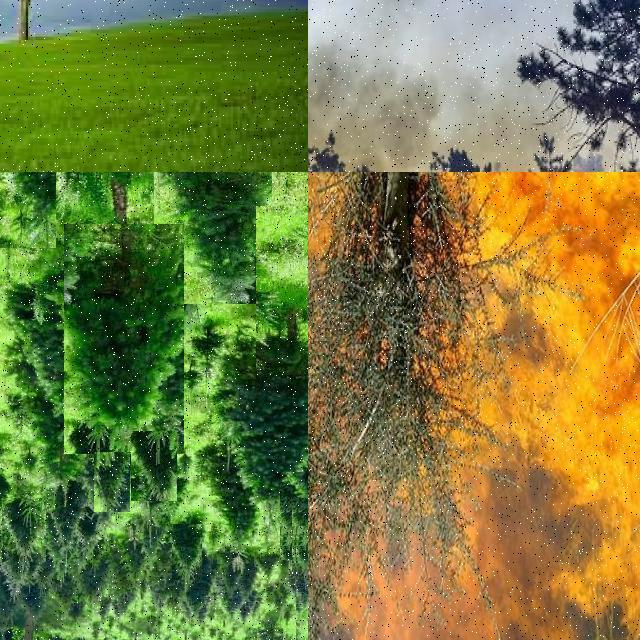tree: (308, 172, 506, 640), (472, 0, 640, 172), (64, 224, 184, 454), (220, 330, 308, 516), (154, 172, 272, 304), (256, 206, 308, 398), (0, 0, 84, 102), (207, 454, 265, 550), (28, 414, 88, 488), (0, 172, 56, 248), (276, 418, 308, 534), (131, 431, 177, 501), (516, 132, 592, 172), (2, 498, 46, 562), (280, 472, 308, 560), (47, 485, 85, 549), (284, 396, 308, 488), (94, 452, 130, 512), (172, 524, 202, 580), (186, 564, 212, 616), (122, 535, 146, 585), (218, 556, 242, 600), (292, 498, 308, 562), (292, 516, 308, 576), (296, 526, 308, 586), (296, 582, 308, 626), (296, 566, 308, 606), (296, 596, 308, 636), (257, 624, 283, 640), (296, 612, 308, 640)
